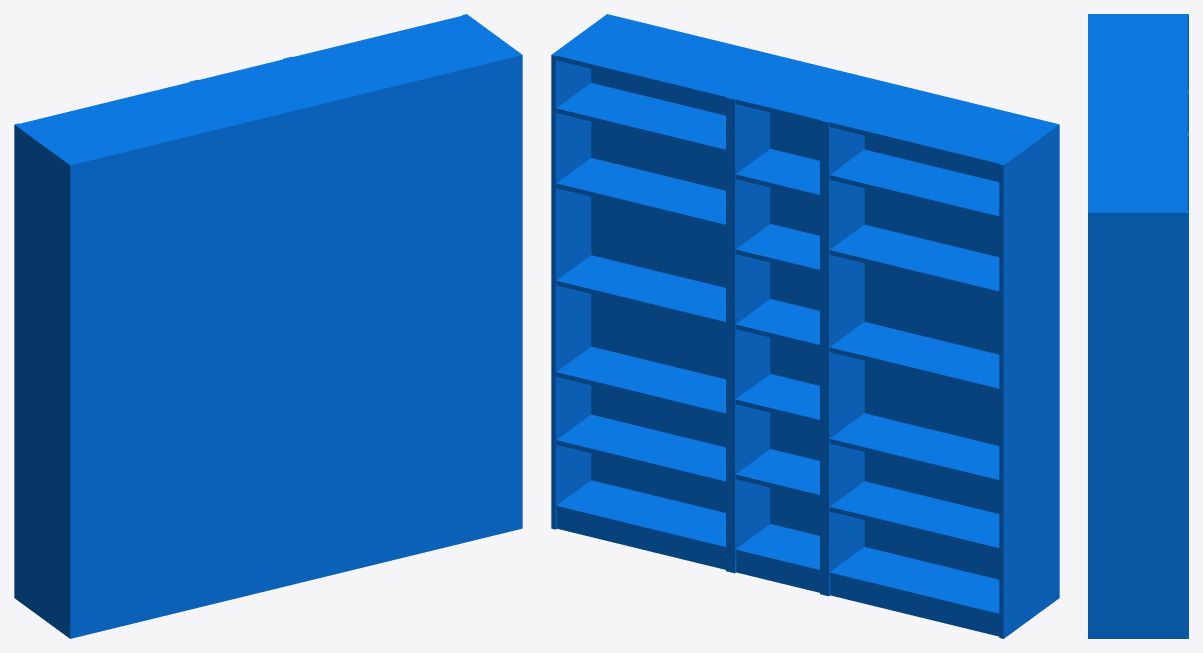
The picture shows the model from 3 angles, left to right: view 1: azimuth 30°, elevation 25°; view 2: azimuth 150°, elevation 25°; view 3: azimuth 270°, elevation 25°; orthographic projection. The views are drawn at different scales.
Visible parts, largest first — view 1: mesh1_mesh1-geometry, mesh3_mesh3-geometry; view 2: mesh1_mesh1-geometry, mesh3_mesh3-geometry; view 3: mesh1_mesh1-geometry, mesh3_mesh3-geometry.
Part boxes in pixels (box(x1,y1,x2,y2)): mesh1_mesh1-geometry: box(14, 14, 522, 638); mesh3_mesh3-geometry: box(194, 57, 343, 595); mesh1_mesh1-geometry: box(551, 14, 1059, 638); mesh3_mesh3-geometry: box(730, 57, 879, 595); mesh1_mesh1-geometry: box(1088, 14, 1188, 638); mesh3_mesh3-geometry: box(1088, 92, 1188, 133).
Bounding box in the file's own units: 0.6988 × 0.6988 × 0.1499.
